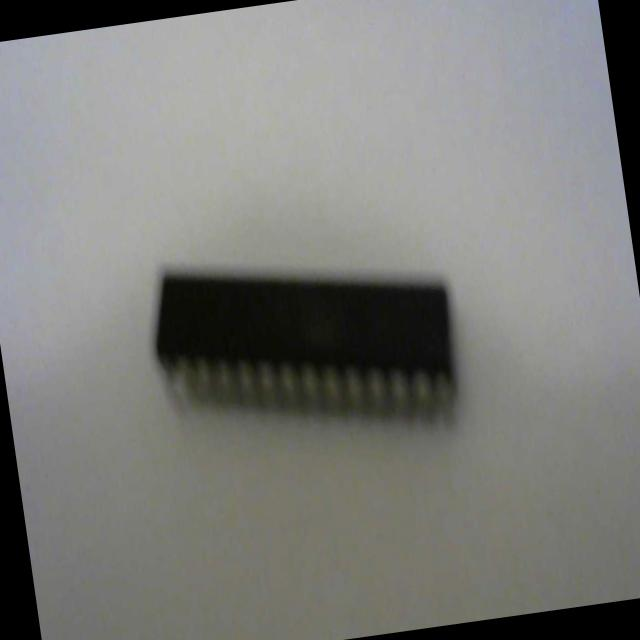atmega: (140, 223, 469, 464)
